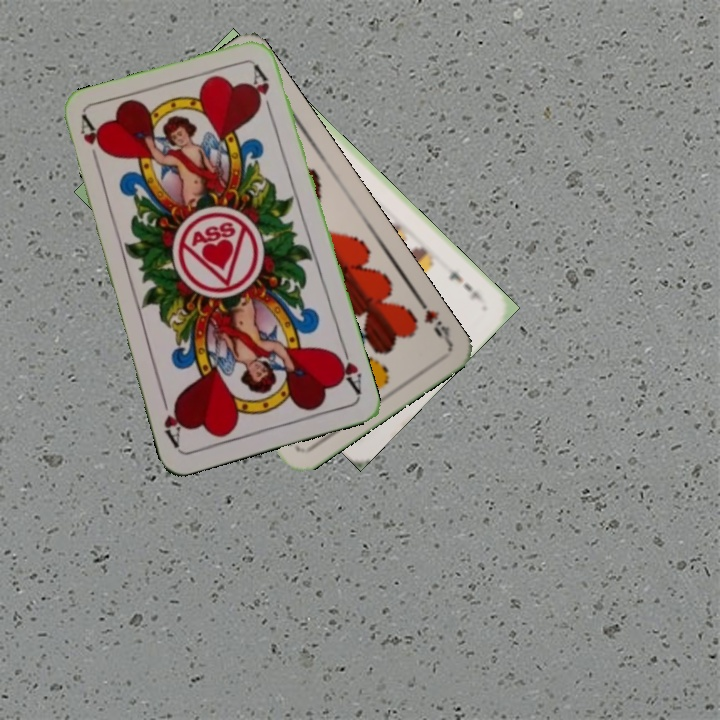E7: (445, 267, 486, 306)
H9: (413, 293, 453, 346)
HA: (329, 340, 364, 398), (76, 113, 105, 172)
